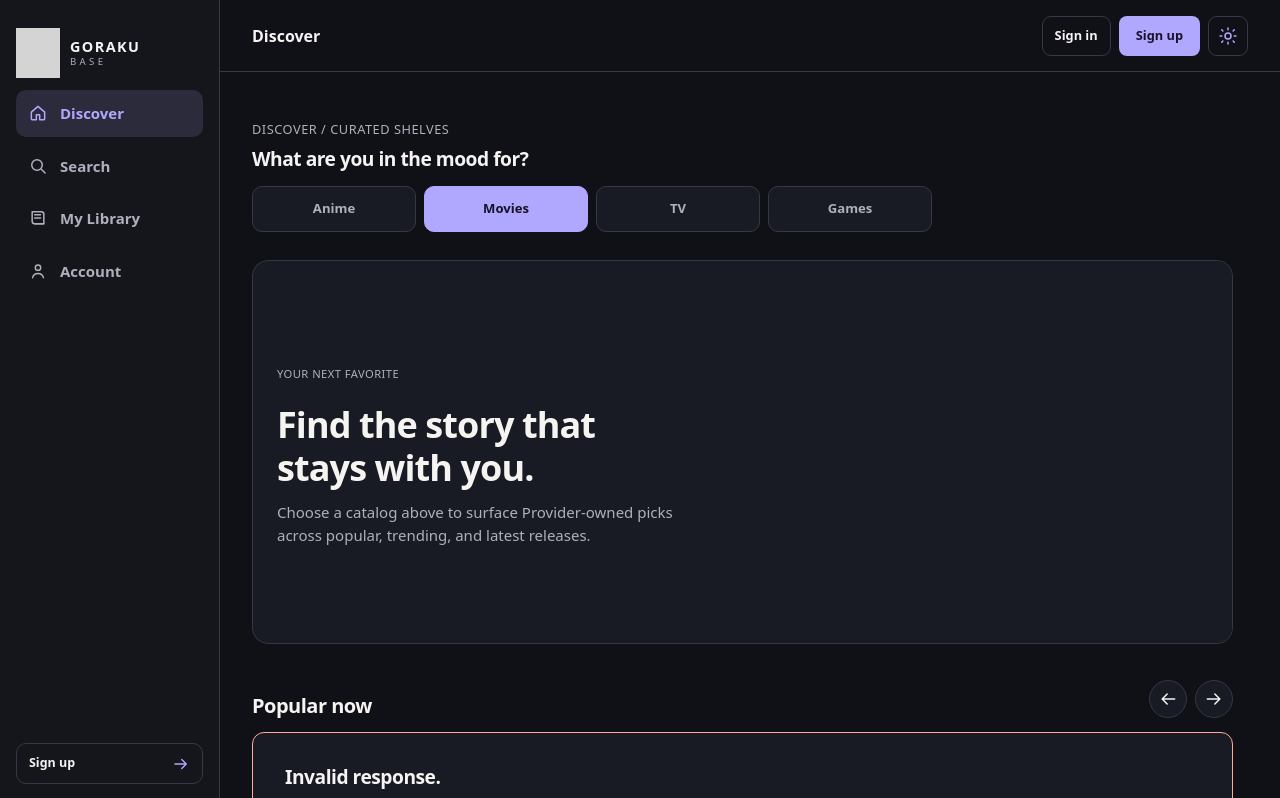
Test: compact navigation and authentication actions › shows auth actions and hides the About workspace
Expected: the button "Sign in" is shown, [1042,16,1111,56]
What coordinates should you click on to do the following:
click the button "Account"
I would click on:
 (110, 271)
Its box is [16,248,203,294].
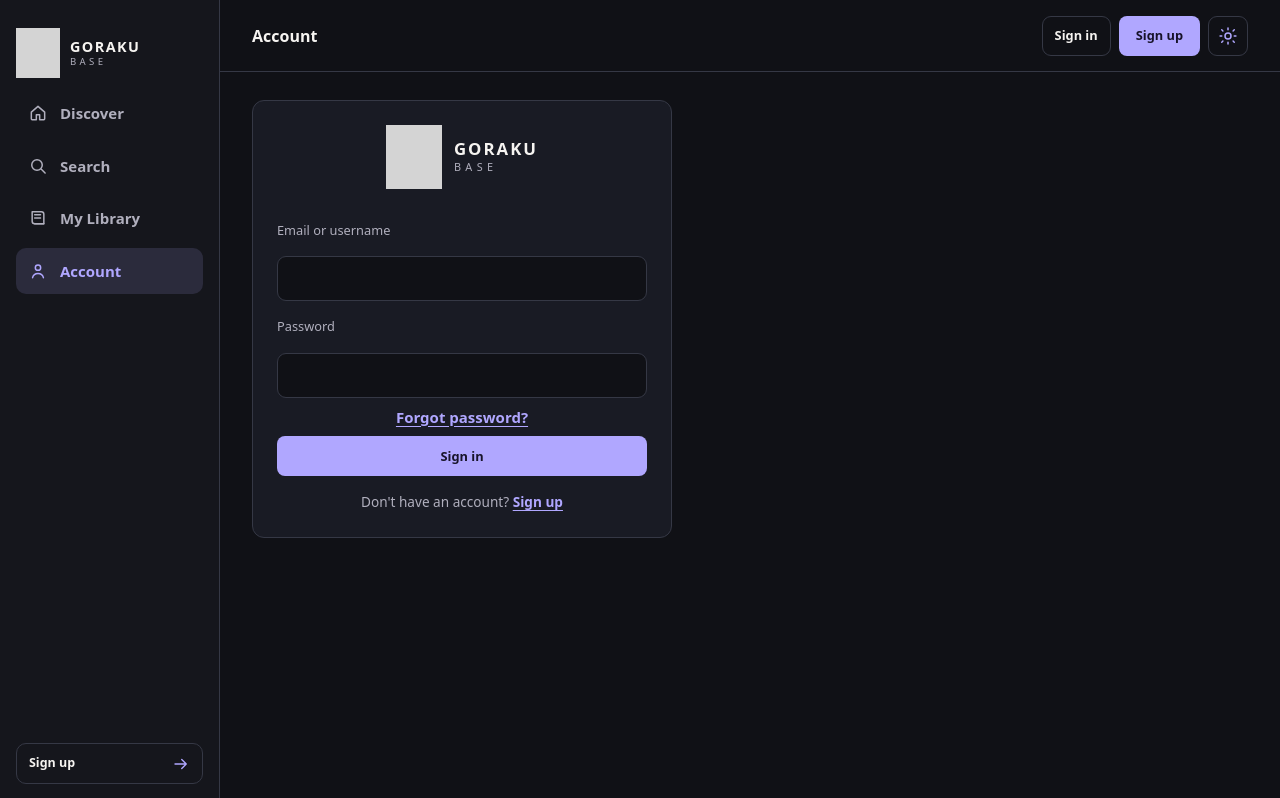
Expected: the field labelled "Email or username" is shown, [277,256,647,302]
Expected: the element with class "auth-brand" is shown, [386,125,538,189]
Expected: the text "Don't have an account?" is shown, [361,492,509,511]
